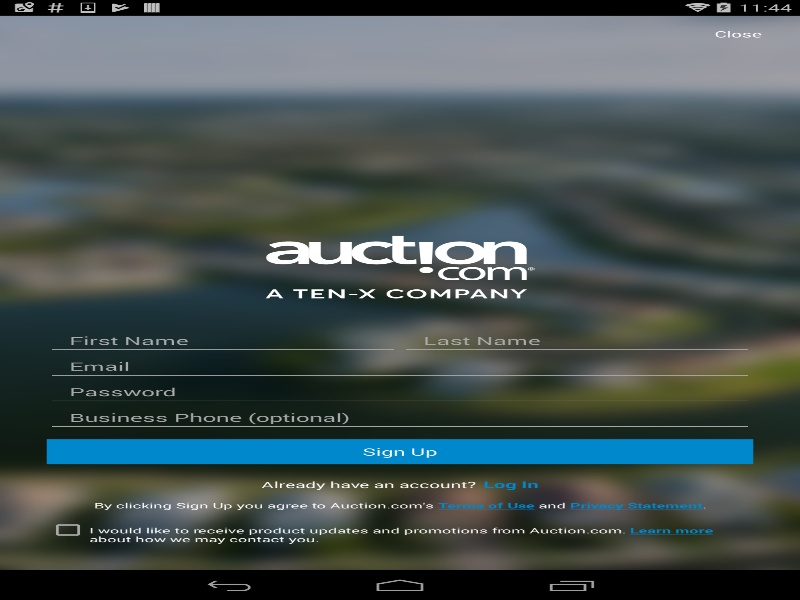Button: (46, 439, 753, 464)
Input: (46, 355, 753, 380), (46, 381, 753, 406), (46, 406, 753, 431), (46, 330, 399, 355), (400, 330, 753, 355)
